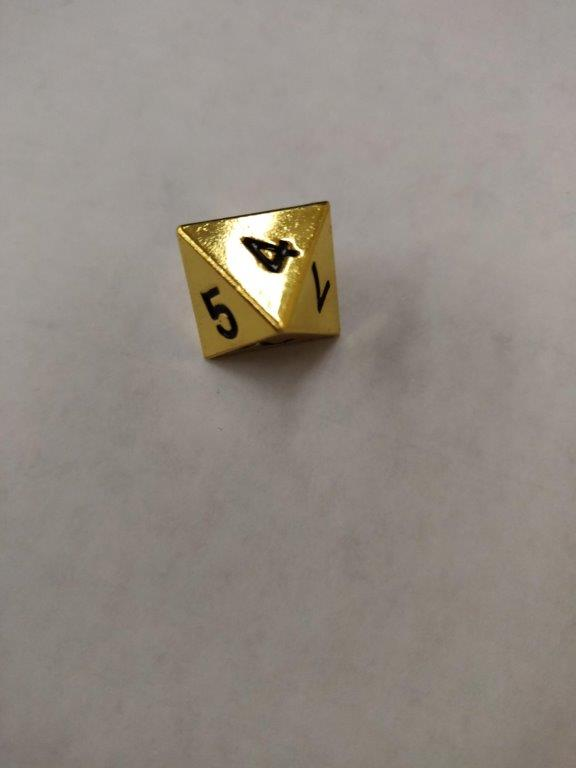d8-4: (176, 195, 346, 367)
